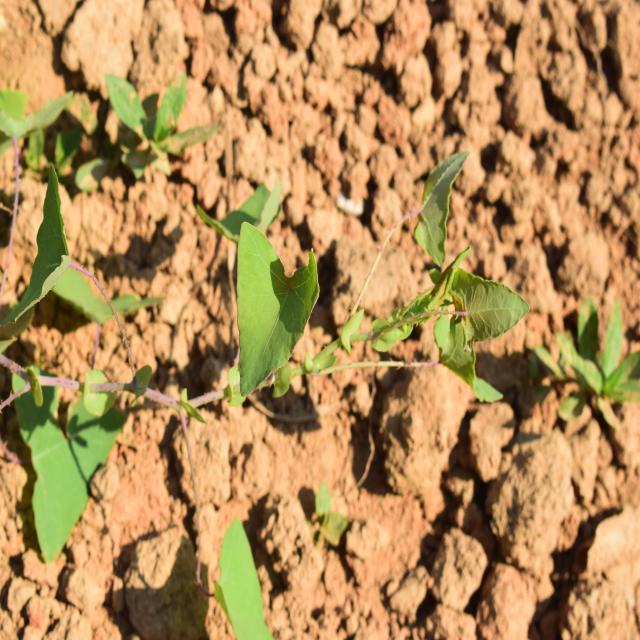Asiatic_Smartweed: (382, 142, 520, 422), (232, 212, 342, 394)
